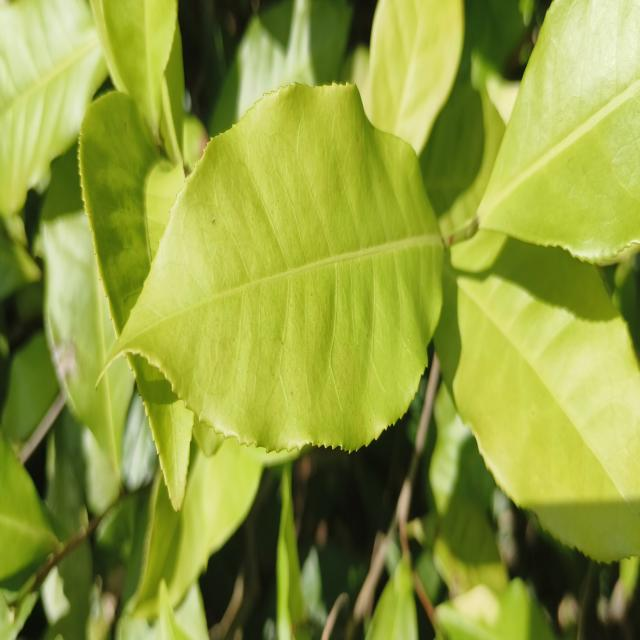Leaf: (107, 84, 443, 450), (434, 232, 640, 562), (478, 0, 640, 262), (39, 174, 134, 472), (79, 91, 185, 338), (132, 438, 263, 618), (0, 0, 107, 217), (209, 0, 352, 137), (370, 0, 464, 155), (127, 354, 194, 510), (102, 0, 177, 137), (407, 496, 509, 596), (0, 434, 58, 581), (435, 579, 556, 640), (0, 331, 59, 443), (366, 559, 418, 640)
